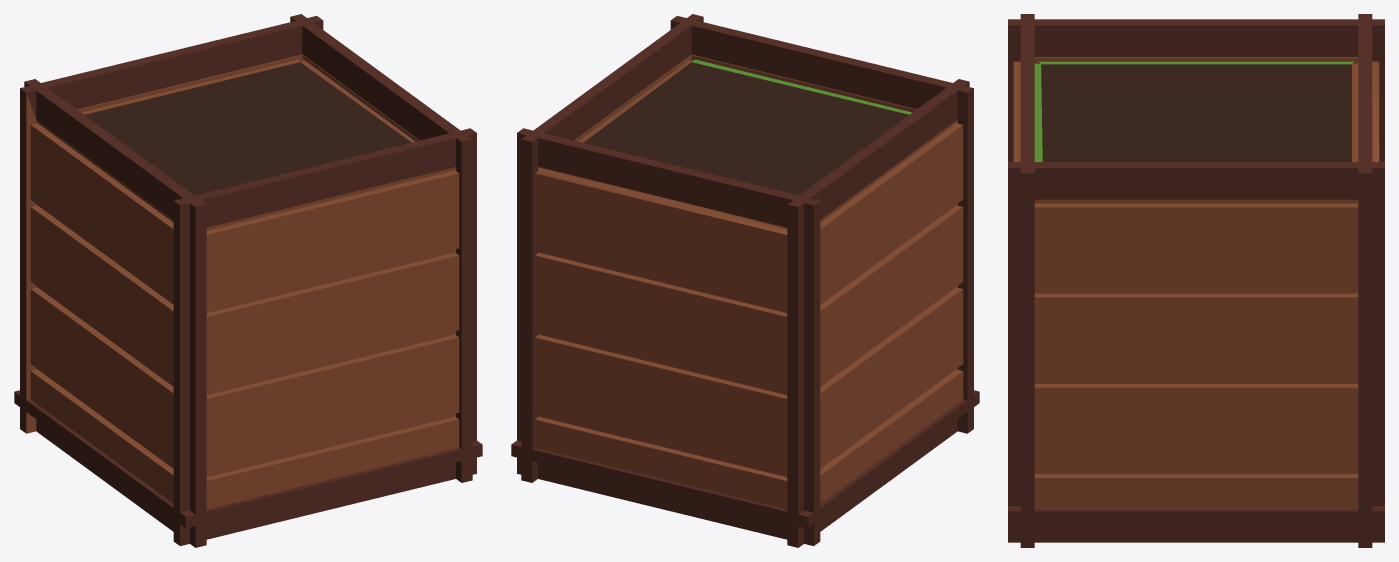
File: flowerpot_square.fbx
3 renders of one model, left to right at view 1: azimuth 30°, elevation 25°; view 2: azimuth 150°, elevation 25°; view 3: azimuth 270°, elevation 25°, orthographic. The views are drawn at different scales.
Visible parts, largest first — view 1: pot_002; view 2: pot_002; view 3: pot_002.
Boxes of the visible parts, x1=… form: pot_002: x1=14, y1=14, x2=482, y2=547; pot_002: x1=511, y1=14, x2=979, y2=547; pot_002: x1=1008, y1=14, x2=1384, y2=547.
Bounding box in the file's own units: 40.85 × 44.82 × 40.85.
